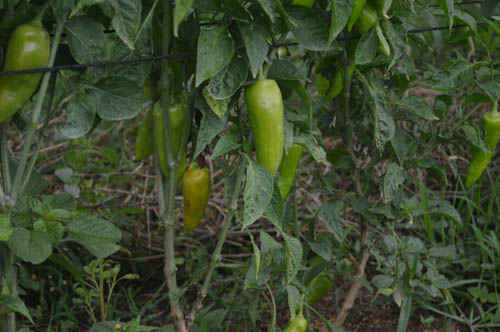ChiliPepper: (1, 23, 54, 127), (241, 75, 285, 180), (146, 90, 192, 183), (461, 102, 500, 194), (349, 3, 398, 63), (174, 165, 213, 236), (128, 68, 156, 164), (293, 267, 336, 321), (274, 139, 306, 203), (327, 48, 362, 105)
